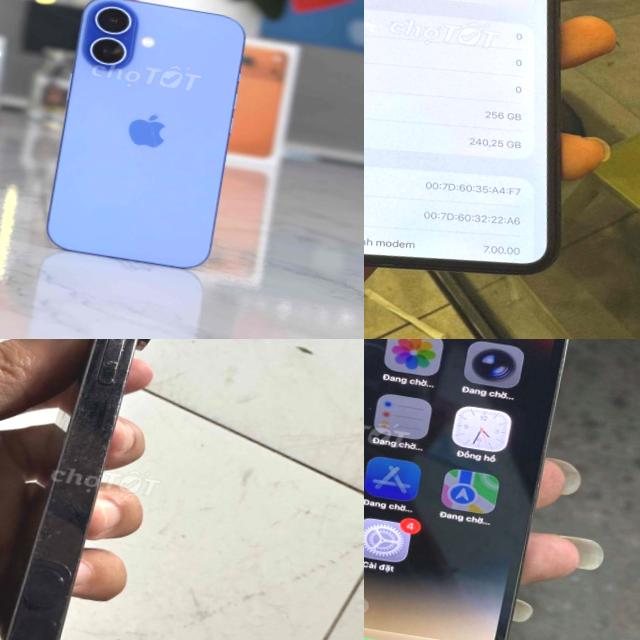scratch: (67, 339, 148, 429), (28, 508, 89, 583)
